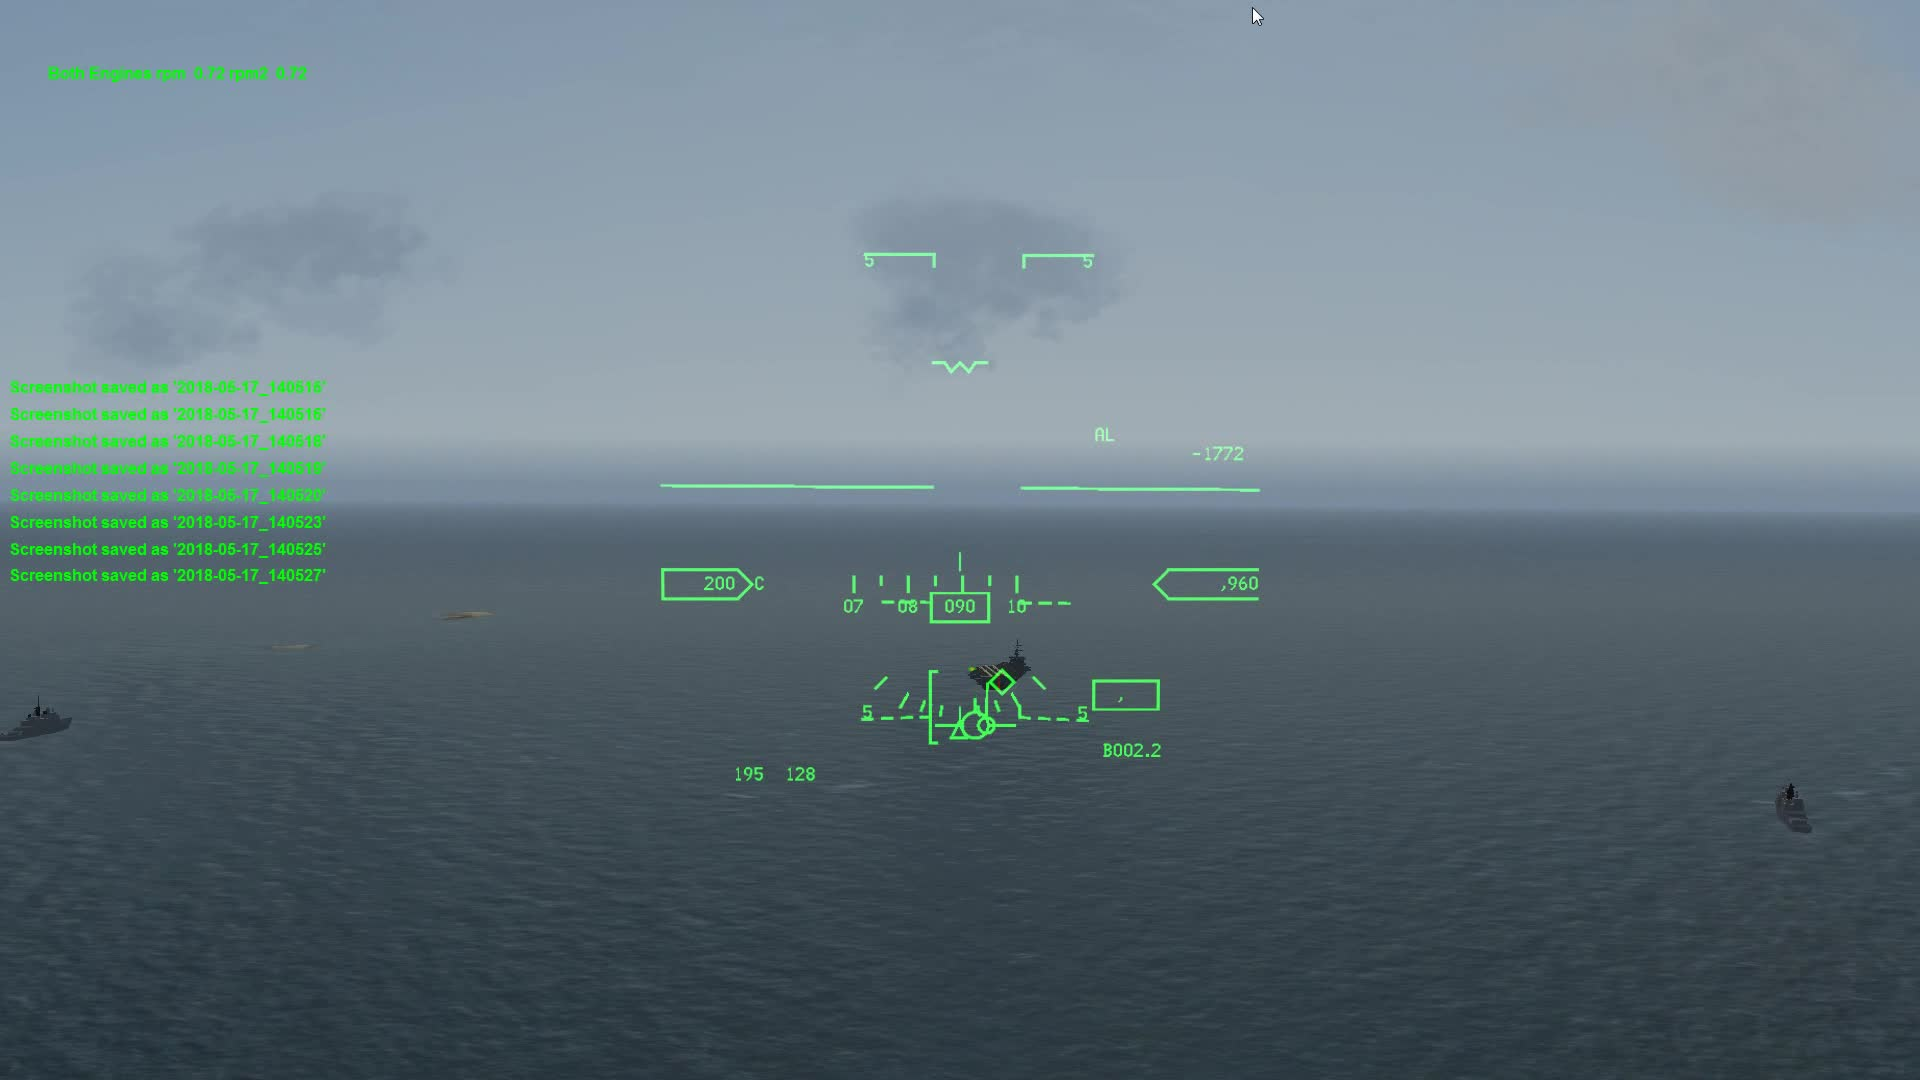speed vector: (938, 684, 1015, 749)
